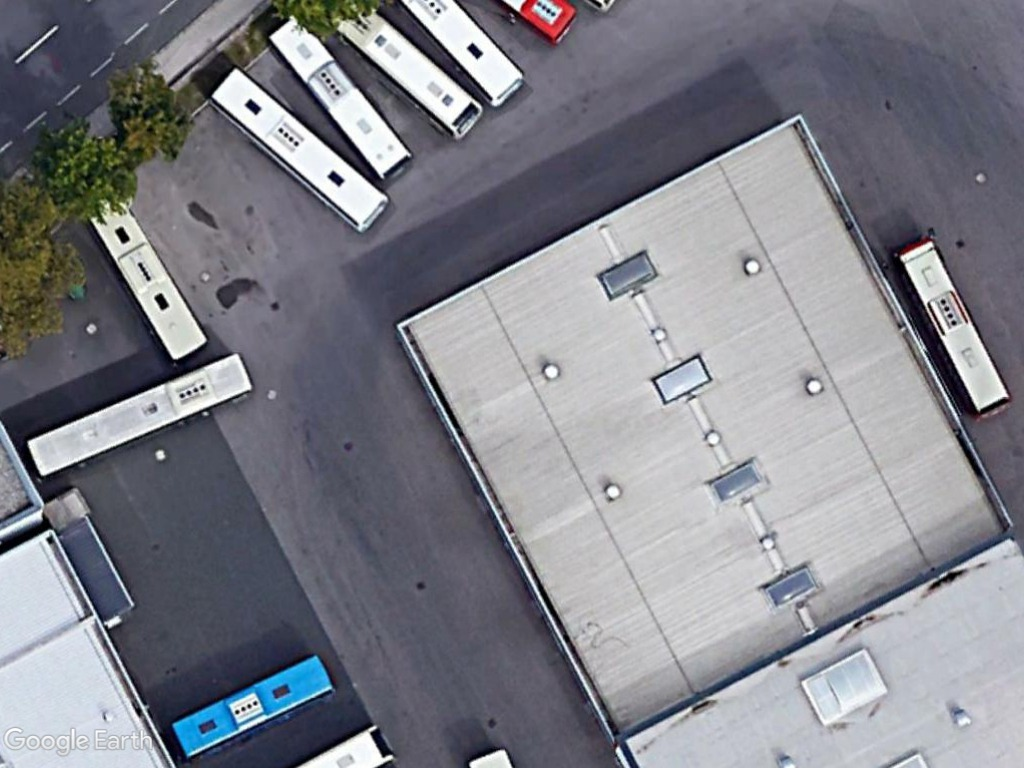bus: (204, 64, 392, 234), (21, 348, 258, 482), (262, 12, 418, 182), (894, 231, 1014, 423), (340, 6, 489, 145), (88, 198, 211, 364), (169, 652, 339, 760)
